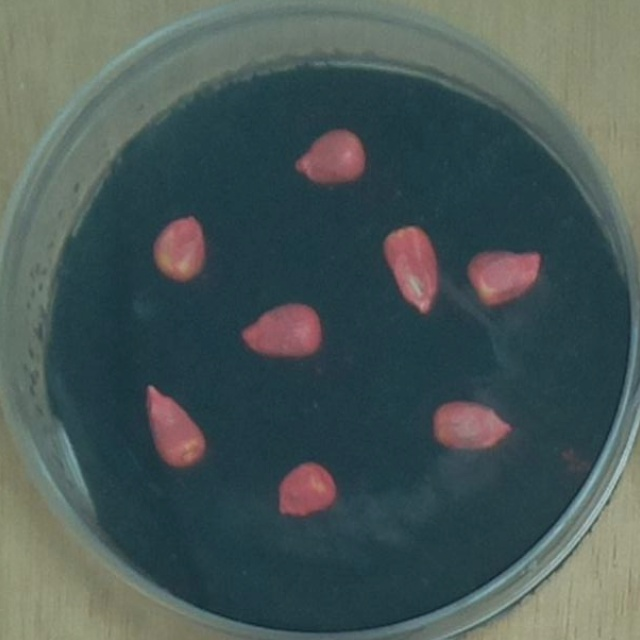Zea mays: (372, 213, 446, 321), (136, 374, 213, 475), (231, 292, 329, 363), (285, 119, 373, 192), (459, 241, 550, 311), (425, 393, 519, 458), (144, 205, 211, 291), (268, 451, 344, 522)
